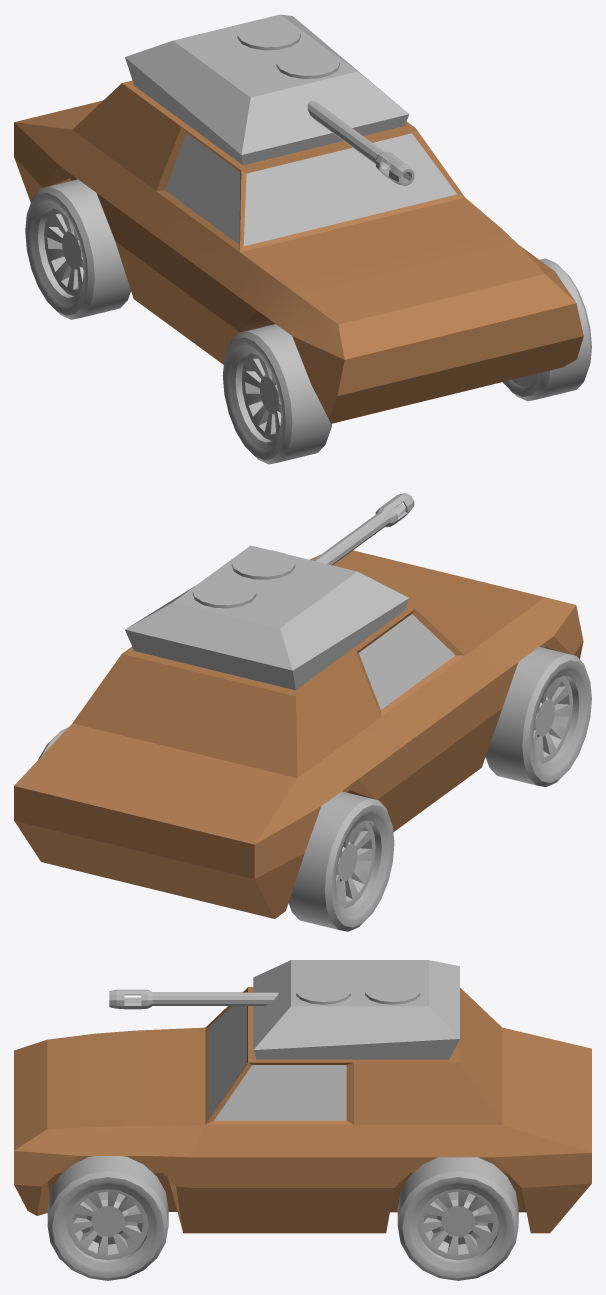
Rendered from light_tank.glb.
The picture shows the model from 3 angles, top to bottom: view 1: azimuth 30°, elevation 25°; view 2: azimuth 150°, elevation 25°; view 3: azimuth 270°, elevation 25°; orthographic projection. The views are drawn at different scales.
Visible parts, largest first — view 1: Hull.001, Cannon, WheelFrontRight, WheelBackRight, WheelFrontLeft, Barrol, Hatch1, Hatch2; view 2: Hull.001, Cannon, WheelFrontRight, WheelBackRight, Barrol, Hatch2, Hatch1; view 3: Hull.001, Cannon, WheelFrontLeft, WheelBackLeft, Barrol, Hatch2, Hatch1.
Part boxes in pixels (left/top/right/bottom): Hull.001: left=14, top=80, right=583, bottom=423; Cannon: left=125, top=14, right=409, bottom=165; WheelFrontRight: left=222, top=324, right=331, bottom=464; WheelBackRight: left=25, top=179, right=130, bottom=319; WheelFrontLeft: left=502, top=258, right=591, bottom=401; Barrol: left=307, top=100, right=414, bottom=185; Hatch1: left=276, top=49, right=339, bottom=78; Hatch2: left=237, top=20, right=300, bottom=50; Hull.001: left=14, top=550, right=583, bottom=918; Cannon: left=125, top=545, right=409, bottom=690; WheelFrontRight: left=485, top=646, right=591, bottom=787; WheelBackRight: left=288, top=791, right=394, bottom=931; Barrol: left=313, top=493, right=414, bottom=565; Hatch2: left=192, top=578, right=256, bottom=608; Hatch1: left=231, top=550, right=295, bottom=579; Hull.001: left=14, top=987, right=591, bottom=1233; Cannon: left=253, top=960, right=459, bottom=1059; WheelFrontLeft: left=47, top=1156, right=168, bottom=1280; WheelBackLeft: left=397, top=1157, right=518, bottom=1280; Barrol: left=109, top=989, right=278, bottom=1009; Hatch2: left=365, top=978, right=420, bottom=1004; Hatch1: left=296, top=978, right=350, bottom=1004.
Bounding box in the file's own units: 3.27 × 2.72 × 6.03.
